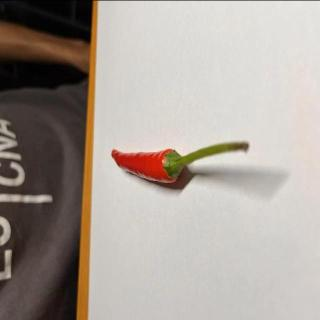Cabai Merah: (112, 141, 251, 185)
